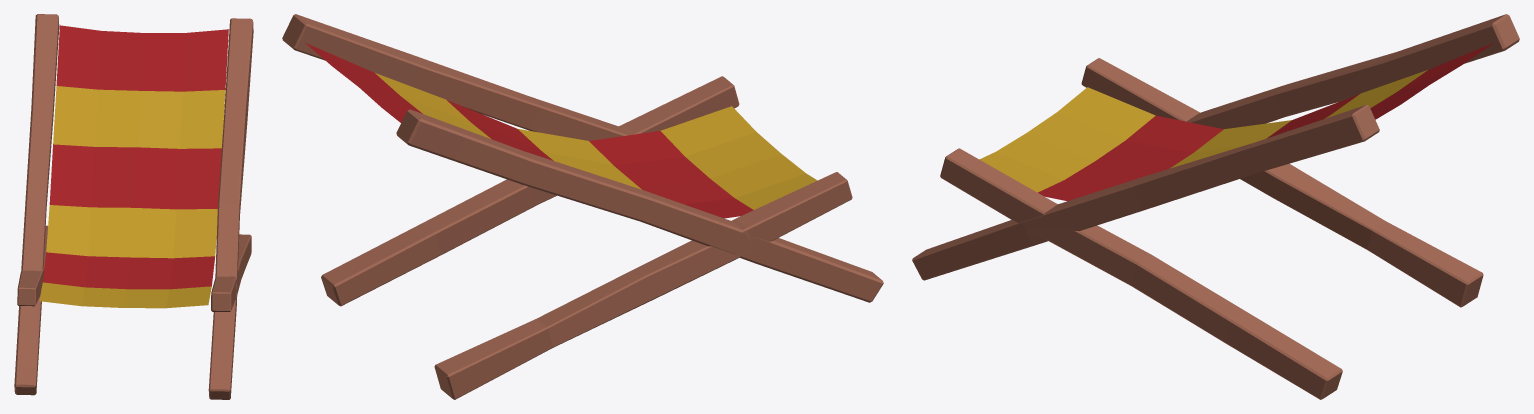
File: Sdraio.gltf
The picture shows the model from 3 angles, left to right: view 1: azimuth 30°, elevation 25°; view 2: azimuth 150°, elevation 25°; view 3: azimuth 270°, elevation 25°; orthographic projection. The views are drawn at different scales.
Visible parts, largest first — view 1: Cube.007, Cube.003, Cube.005, Cube.001, Cube.006; view 2: Cube.007, Cube.005, Cube.006, Cube.001, Cube.003; view 3: Cube.007, Cube.001, Cube.003, Cube.006, Cube.005.
Part boxes in pixels (<box>): Cube.007: <box>39,25,228,308</box>; Cube.003: <box>208,18,253,399</box>; Cube.005: <box>14,14,59,395</box>; Cube.001: <box>211,234,251,311</box>; Cube.006: <box>17,225,47,306</box>; Cube.007: <box>305,43,817,218</box>; Cube.005: <box>396,109,883,302</box>; Cube.006: <box>434,172,852,399</box>; Cube.001: <box>321,76,739,306</box>; Cube.003: <box>282,14,628,140</box>; Cube.007: <box>979,42,1494,201</box>; Cube.001: <box>940,148,1342,399</box>; Cube.003: <box>912,104,1379,280</box>; Cube.006: <box>1081,58,1483,307</box>; Cube.005: <box>1187,14,1519,129</box>.
Bounding box in the file's own units: 3.3 × 2.01 × 3.75.
